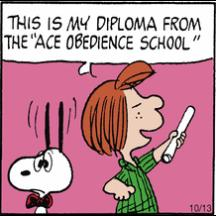snoopy: (8, 100, 74, 214)
